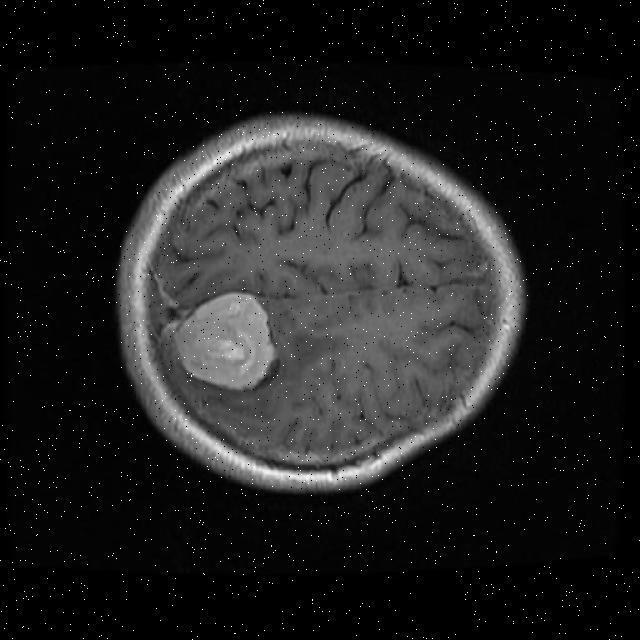Meningioma: (173, 293, 275, 390)
